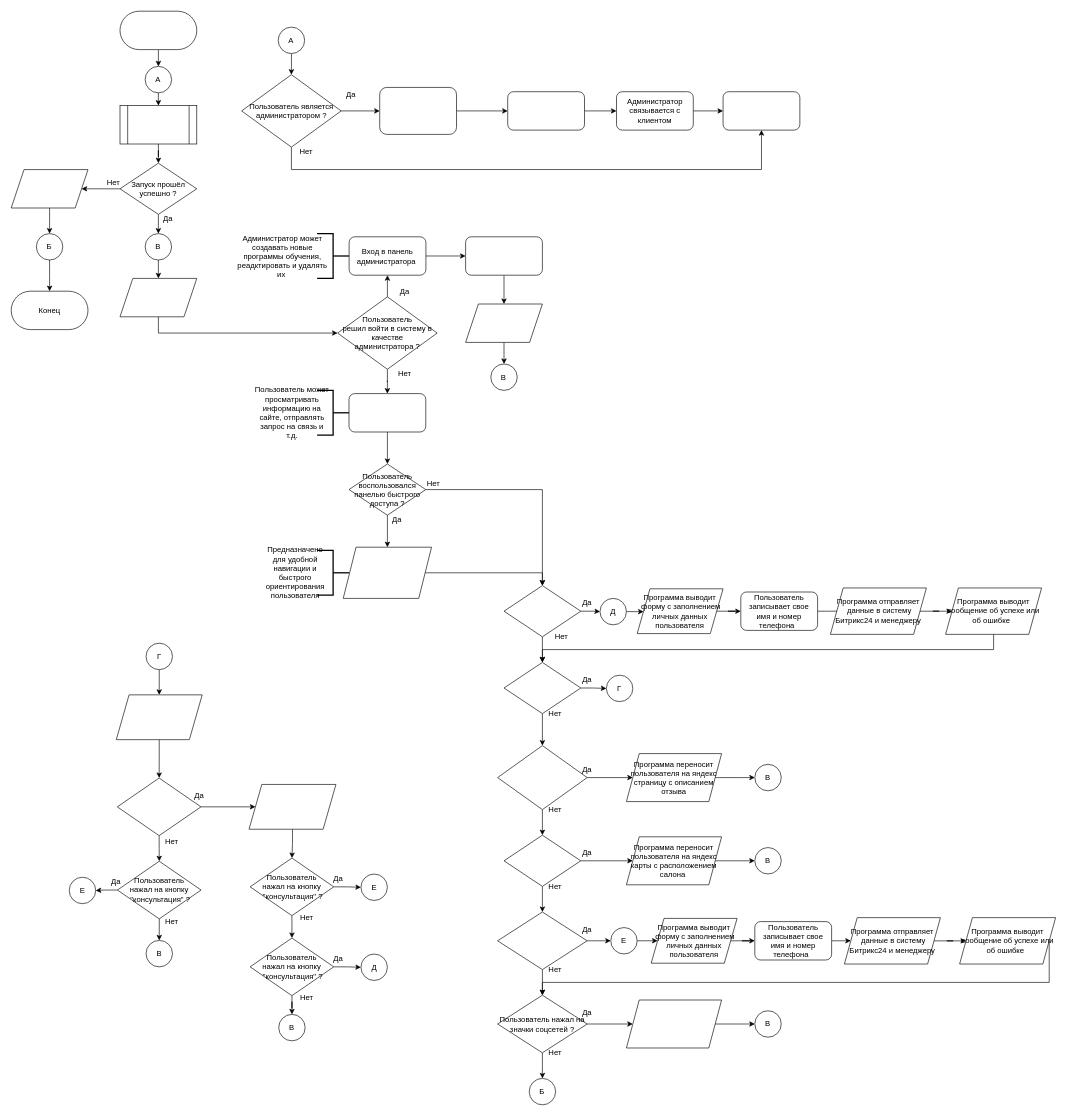
Image size: 1067x1116. Some labels were removed from this diagram. Here are the shapes that lost their labels. From the top down, the box of each, then its label:
(119, 11, 197, 50): Начало
(119, 105, 197, 144): Запуск веб-приложения
(379, 87, 457, 134): Администратор заходит в систему управления отношения с клиентами -- Битрикс24
(507, 91, 585, 130): Администратор проверяет пришедшие заявки о свзяи
(722, 91, 800, 130): Выход из системы
(11, 169, 88, 208): Программа выводит сообщение об ошибке
(465, 236, 542, 275): Администратор создал, отредактировал или удалил программу обучения
(119, 278, 197, 317): Программа переводит пользователя на главную страницу
(465, 303, 542, 342): Программа вносит изменения в базе ланных
(348, 393, 426, 432): Пользователь остаётся в прежнем состоянии
(343, 547, 432, 598): Программа перемещает экран на определенное расстояние
(503, 585, 581, 637): Пользователь нажал на кнопку "запись" ?
(503, 662, 581, 714): Пользователь нажал на кнопку "все курсы" ?
(116, 694, 202, 740): Программа открывает пользователю перечень всех программ обучения
(497, 745, 587, 810): Пользователь нажал на кнопку "подробнее" в разделе отзывов ?
(117, 777, 201, 836): Пользователь нажал на кнопку "программа обучения" ?
(248, 784, 336, 829): Программа открывает окно с полным описанием программы
(503, 835, 581, 886): Пользователь нажал на поле навигации ?
(497, 911, 587, 970): Пользователь решил заполнить заявку на звонок ?
(626, 999, 722, 1048): Программа переносит пользователя на сайт приложения на страницу салона
